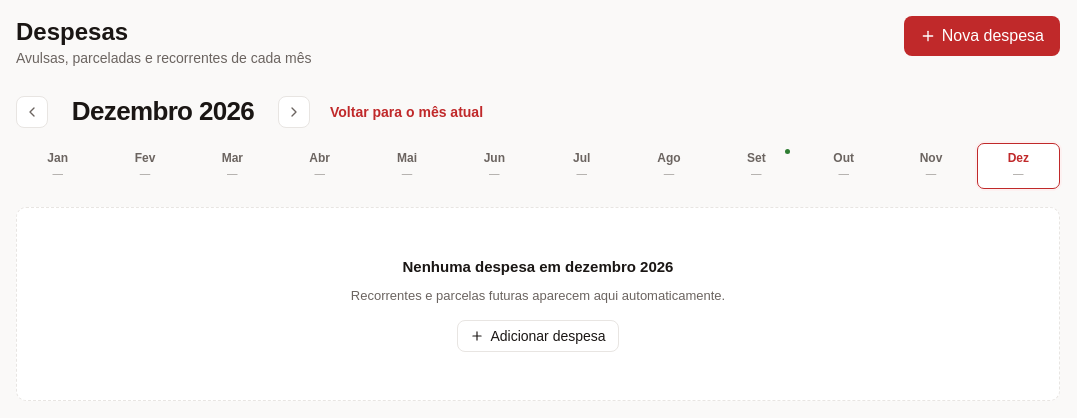
Scenario: página de despesas: estrutura e navegação › troca o ano da faixa ao passar de dezembro pelas setas
The image size is (1077, 418).
Expected: the heading "Dezembro 2026" is shown, [58, 92, 268, 131]
Click the button named "Próximo mês". click: (294,112)
box: [278, 96, 310, 128]
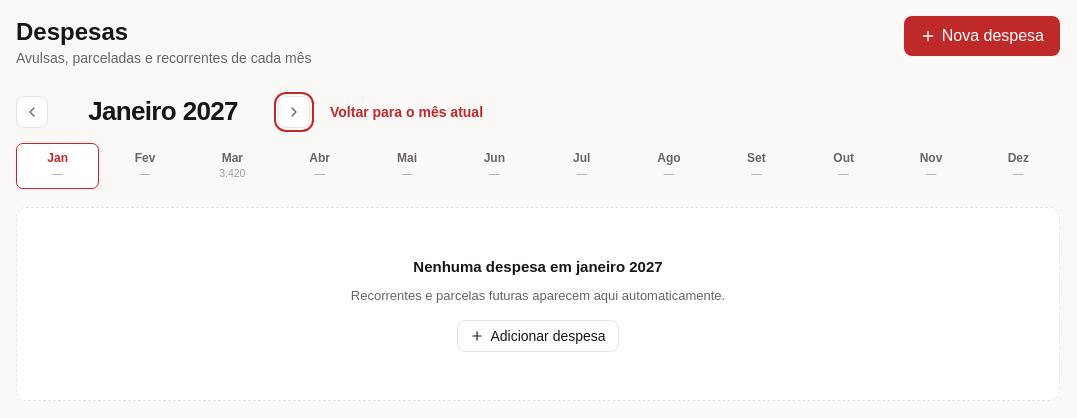
Now the heading "Janeiro 2027" is shown, box [88, 96, 238, 126]
Now the text "3.420" is shown, box [219, 166, 246, 182]
